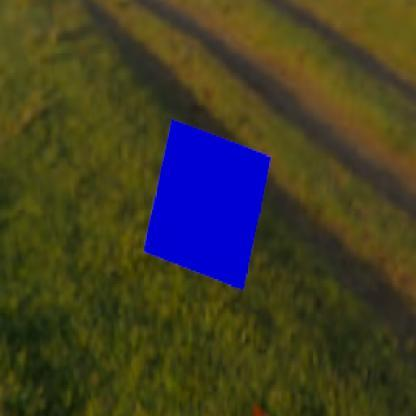cube: (142, 118, 270, 289)
